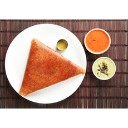dosa: (21, 37, 87, 95)
